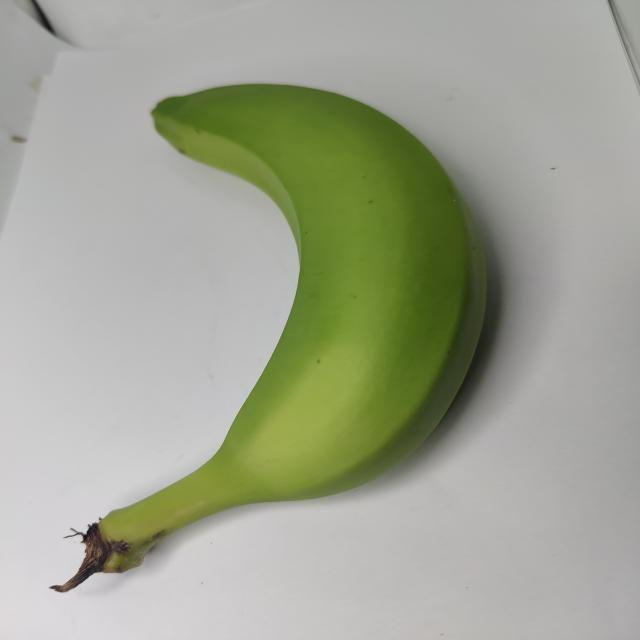raw: (68, 47, 515, 580)
